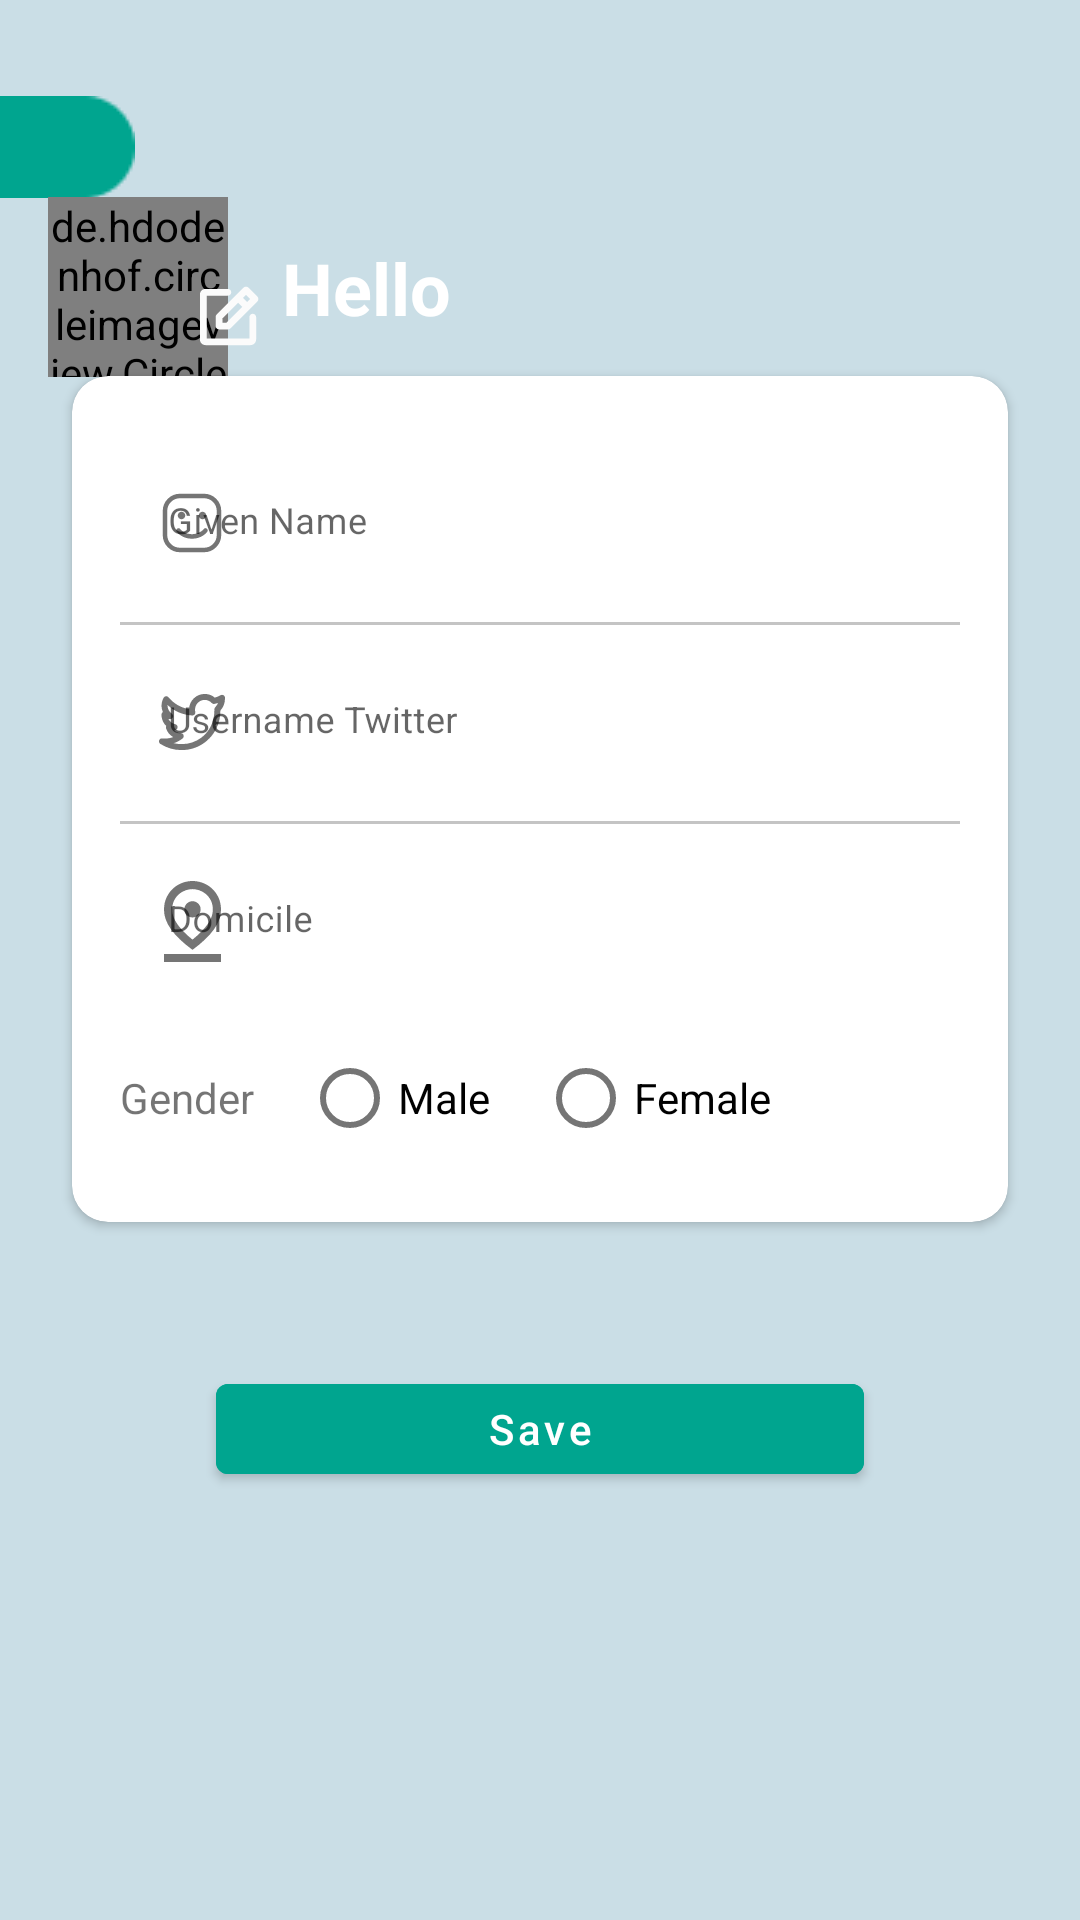

Icons on this 1080 × 1920 Android screen, each with the point to tap as point (x, y):
edit: point (228, 317)
